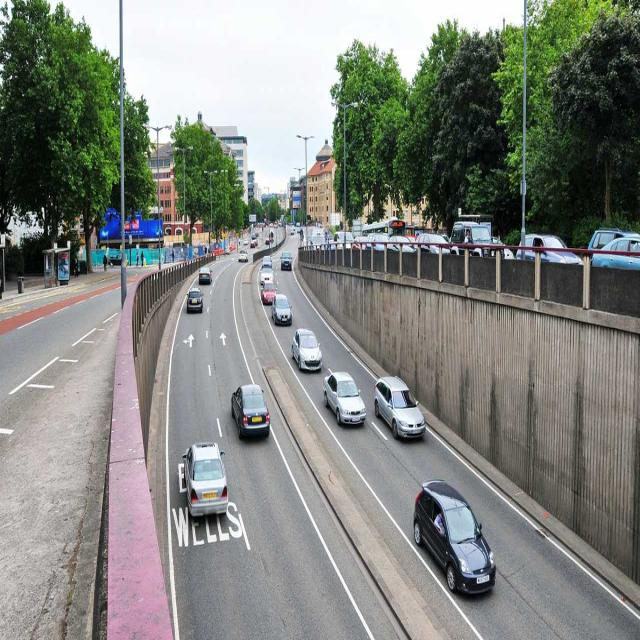Clean road: (132, 267, 640, 639)
